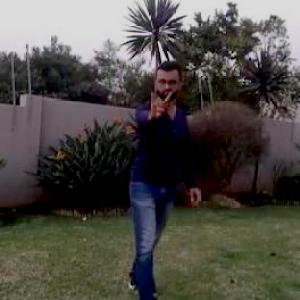takeoff-hand: (146, 84, 178, 124)
